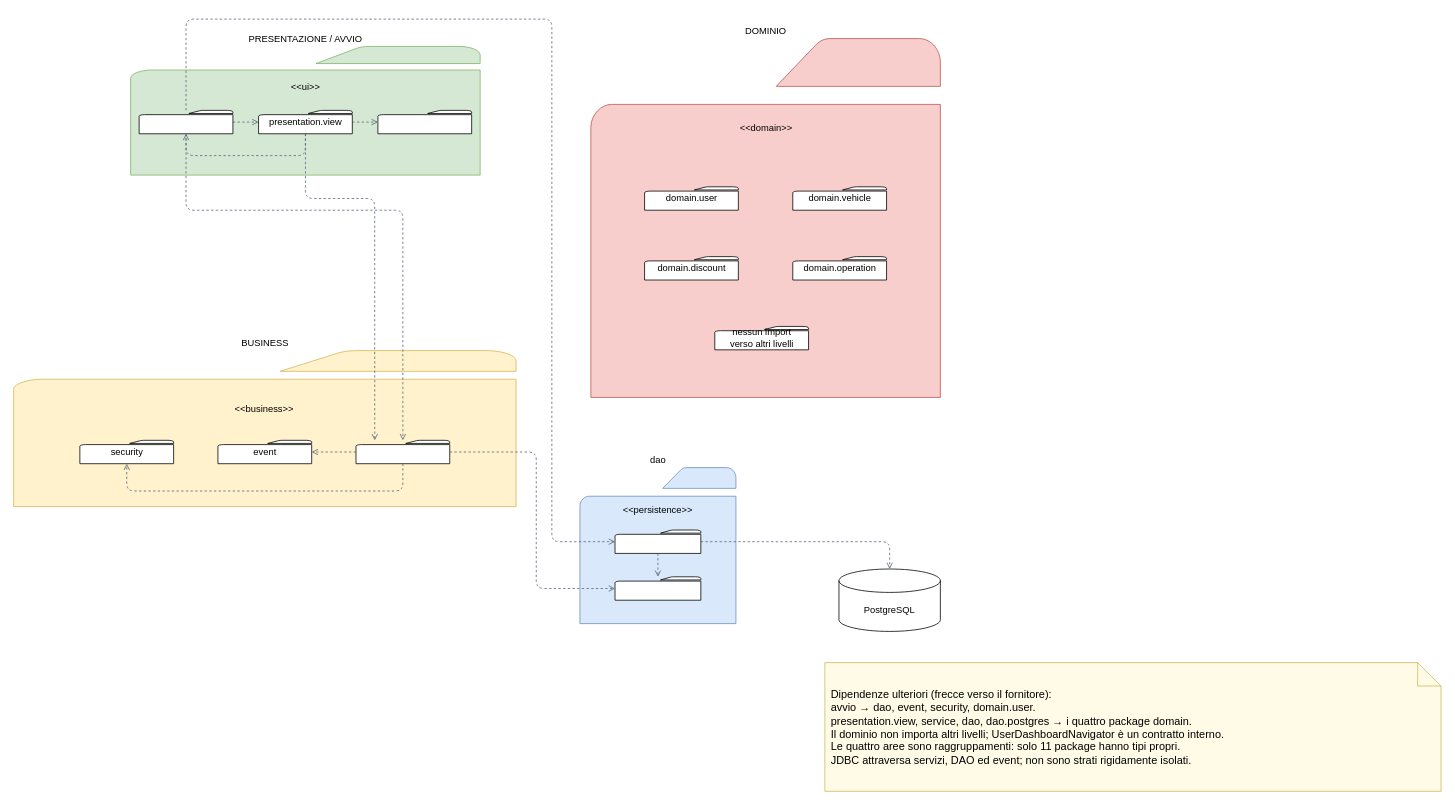
This 1455x805 diagram has some shape labels left out. Each missing label, with the centre of its shape:
"dao (contratti)" goes at (x=657, y=588).
"dao.postgres" goes at (x=657, y=541).
"it.unifi.drivehub" goes at (x=185, y=122).
"JavaFX (esterno)" goes at (x=424, y=122).
"service" goes at (x=402, y=452).
